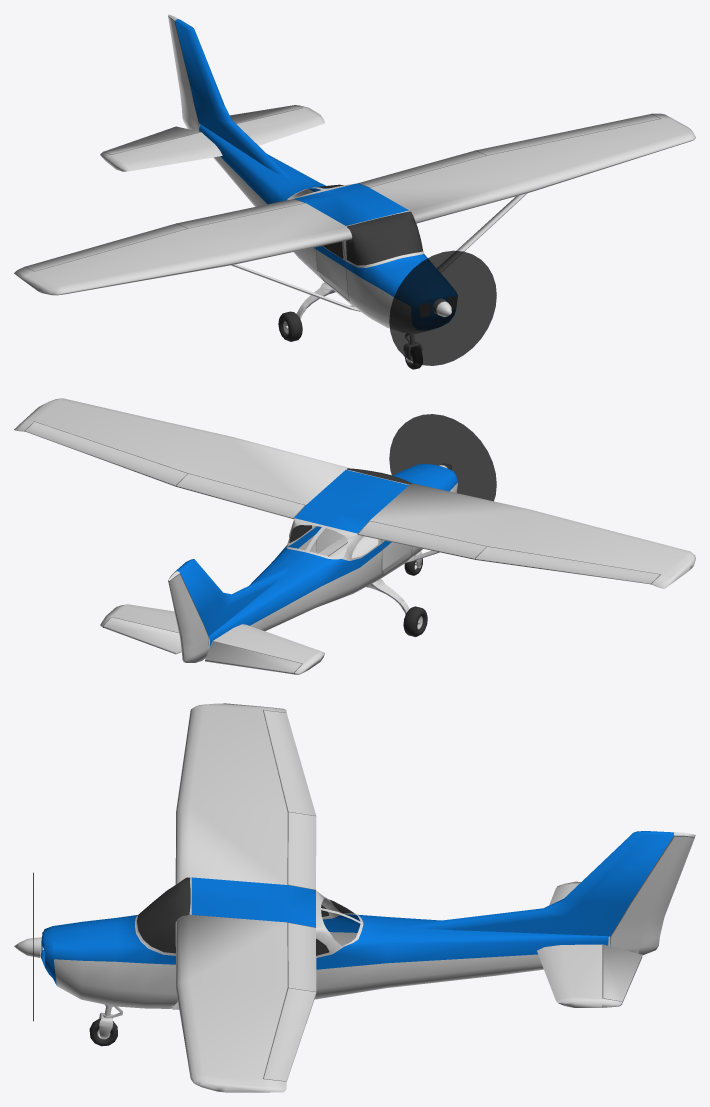
File: Cessna.fbx
3 renders of one model, top to bottom at view 1: azimuth 30°, elevation 25°; view 2: azimuth 150°, elevation 25°; view 3: azimuth 270°, elevation 25°, orthographic. The views are drawn at different scales.
Visible parts, largest first — view 1: Empty_Mesh, Cylinder; view 2: Empty_Mesh, Cylinder; view 3: Empty_Mesh.
Part boxes in pixels (left/top/right/bottom): Empty_Mesh: left=14, top=14, right=695, bottom=369; Cylinder: left=389, top=250, right=496, bottom=365; Empty_Mesh: left=14, top=398, right=695, bottom=674; Cylinder: left=389, top=414, right=496, bottom=501; Empty_Mesh: left=14, top=703, right=695, bottom=1092.
Size of the model in its own units: 1543 by 402 by 1162.
